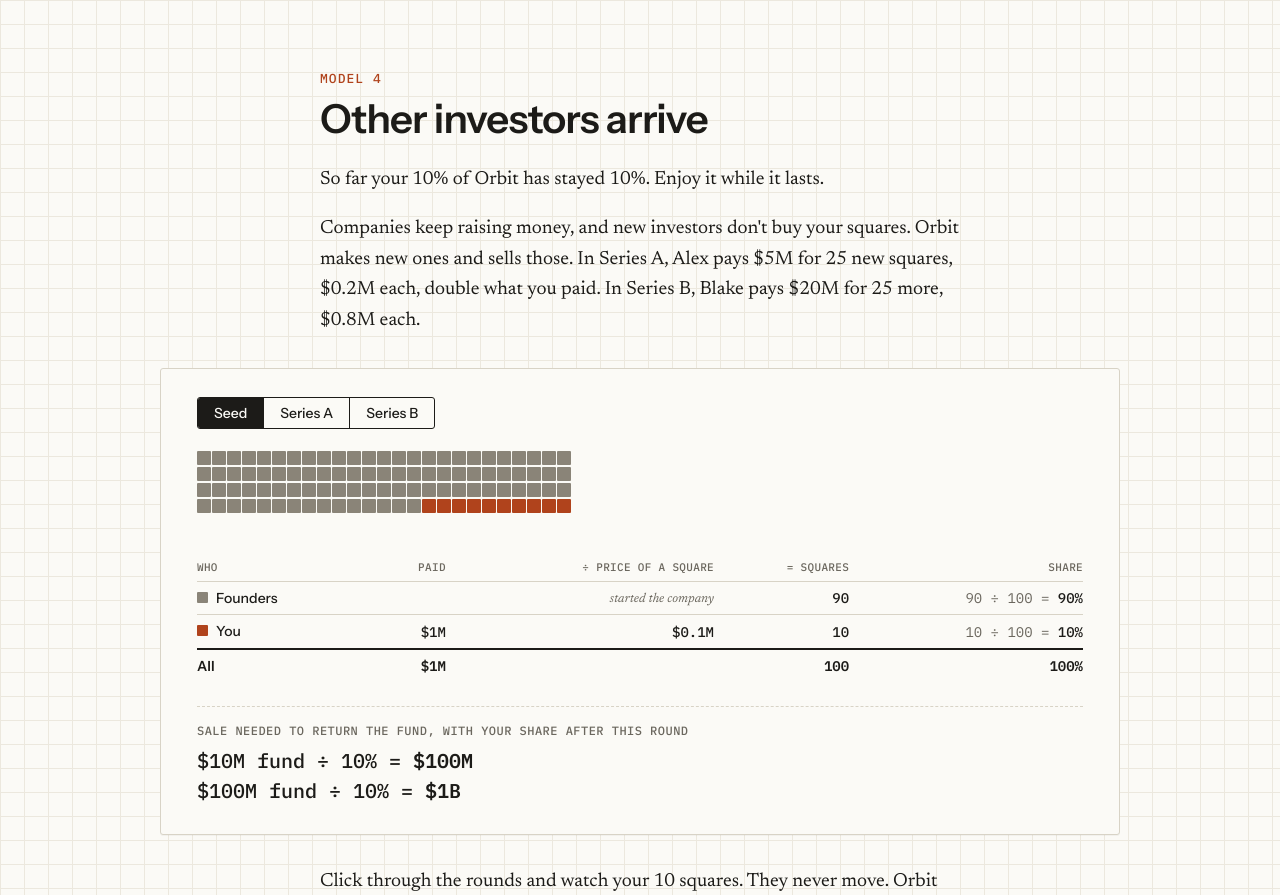
Model 4: other investors arrive › prices Series B and moves the napkin
This screenshot has width=1280, height=895.
Click the button "Series B": [392, 413] box left=349, top=398, right=434, bottom=428
(page scrolled)
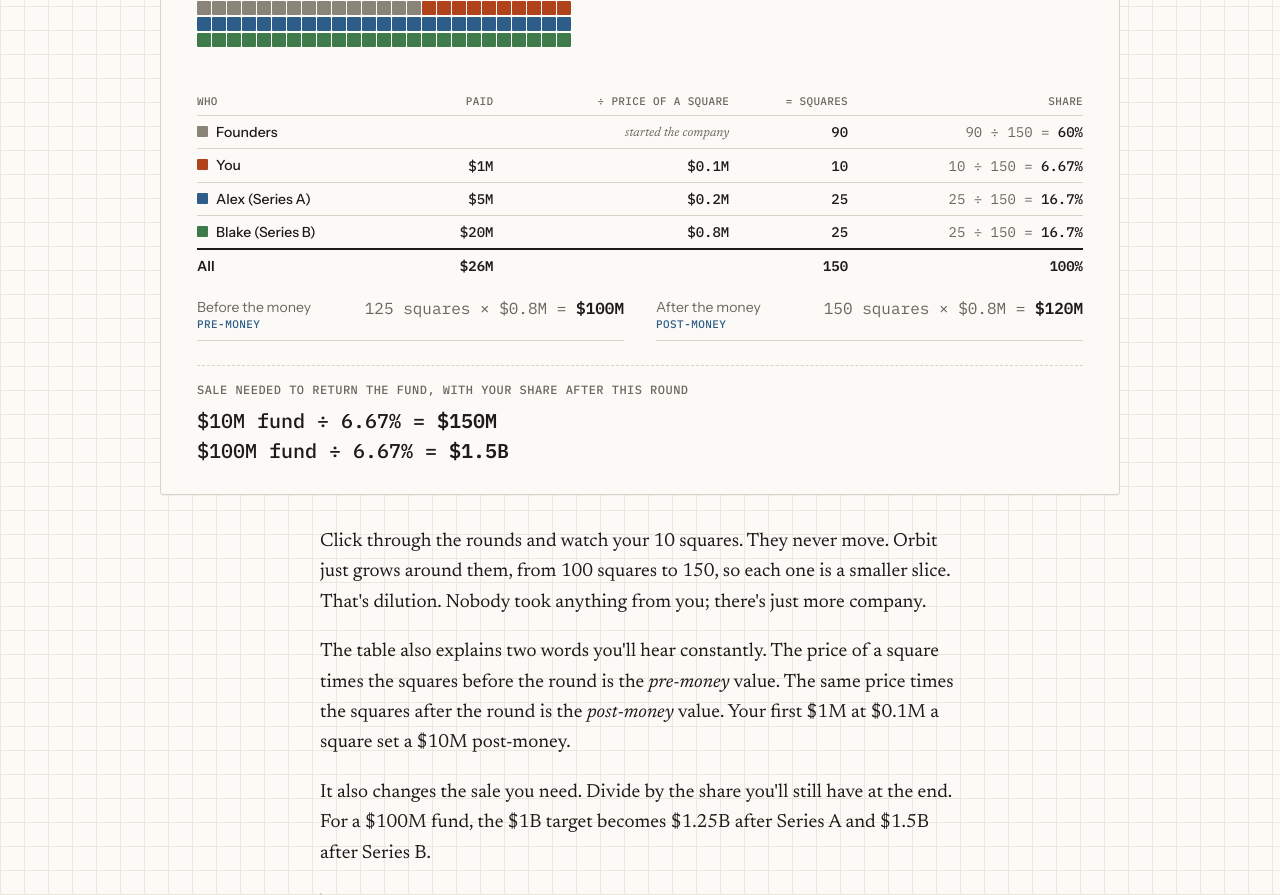
Expected: the text with test id "post-money" reads "$120M", left=1035, top=298, right=1083, bottom=318
Expected: the text with test id "exit-small" reads "$150M", left=437, top=407, right=497, bottom=434
Expected: the text with test id "exit-big" reads "$1.5B", left=449, top=437, right=509, bottom=464
